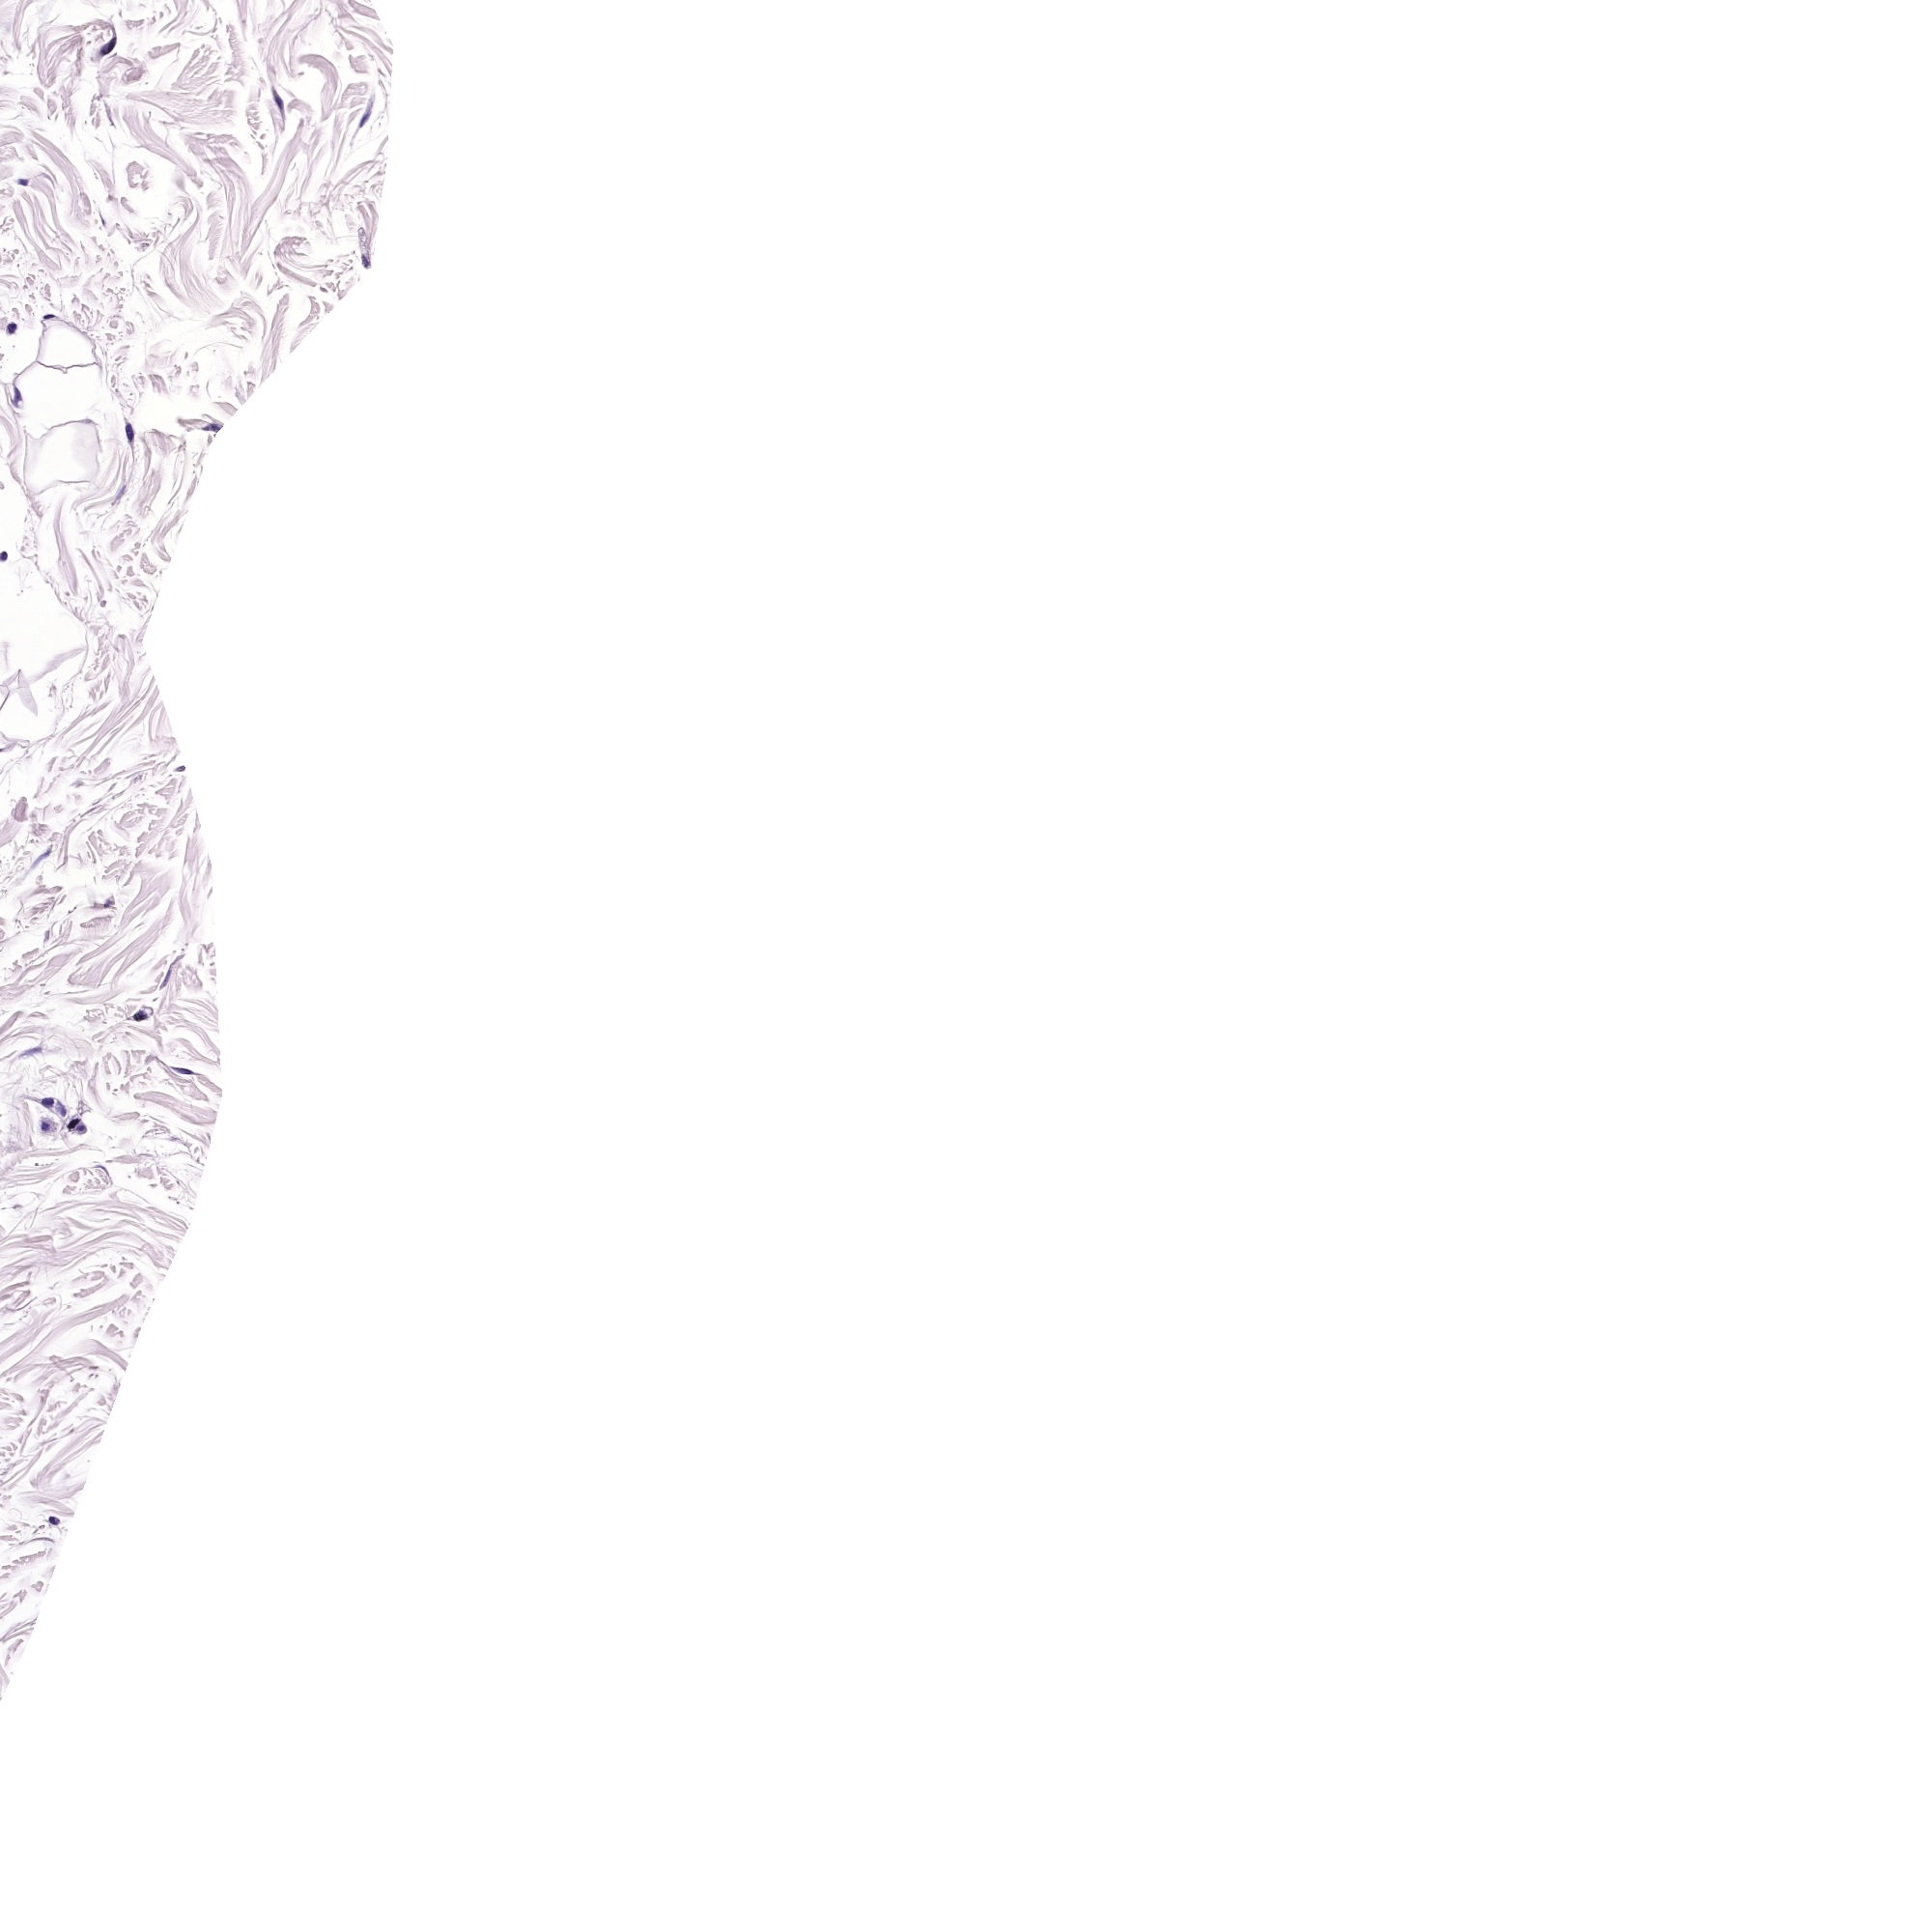fibroblast and endothelial: (140, 1012, 145, 1016), (73, 1122, 76, 1125), (108, 44, 110, 50), (364, 117, 366, 120), (364, 260, 366, 264), (129, 428, 131, 432), (166, 978, 168, 982), (21, 180, 23, 182), (16, 395, 18, 396)
inflammatory: (51, 1520, 55, 1522), (80, 1127, 81, 1129)
